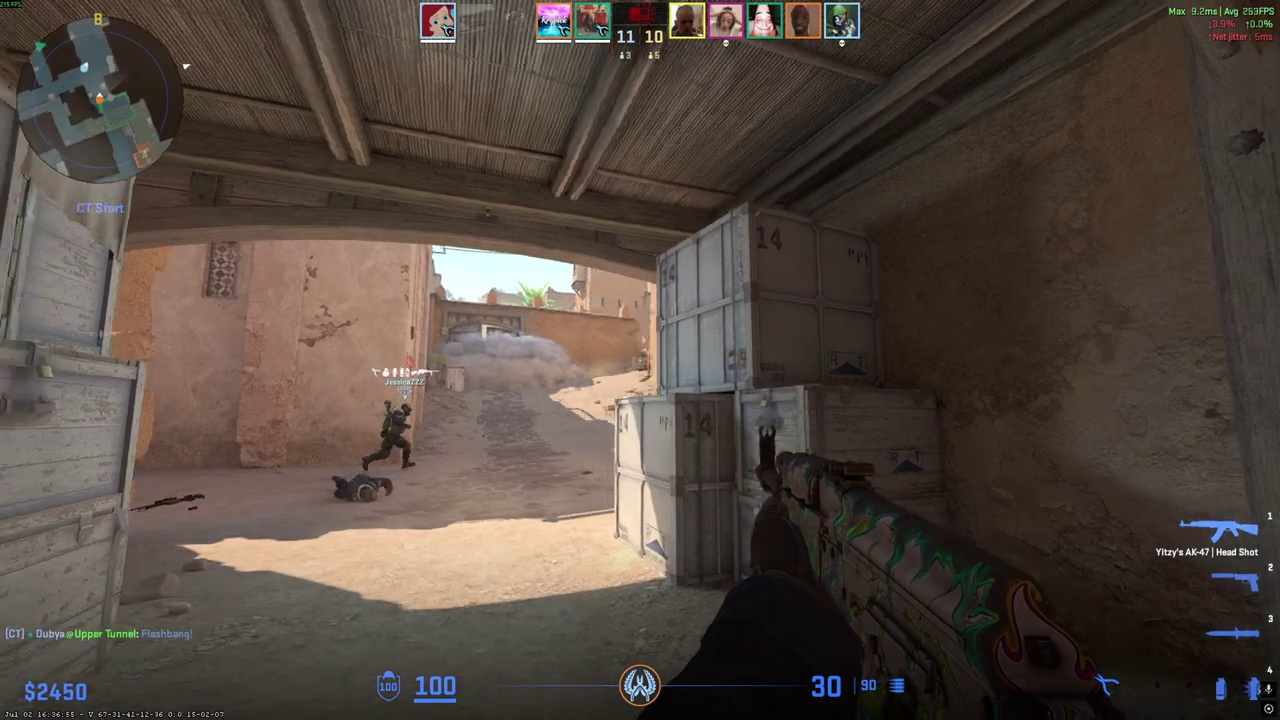CT: (370, 401, 416, 470)
